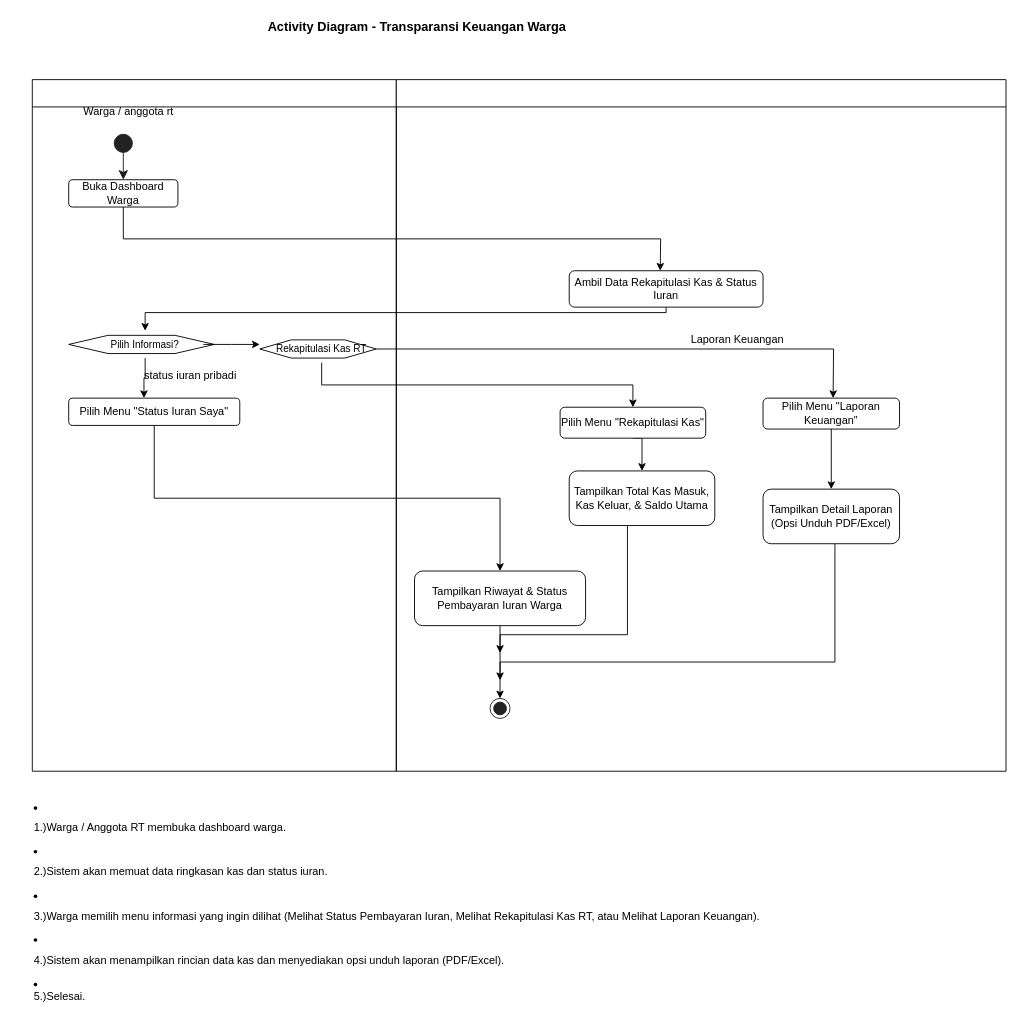
This 1022x1029 diagram has some shape labels left out. Here are the shapes that lost their labels. From the top down, the box of each, then its label:
(31, 79, 396, 771): Warga/RT
(395, 79, 1006, 771): Sistem Sirtes
